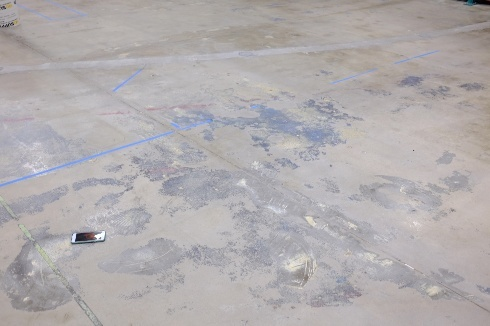phone: (66, 221, 115, 253)
